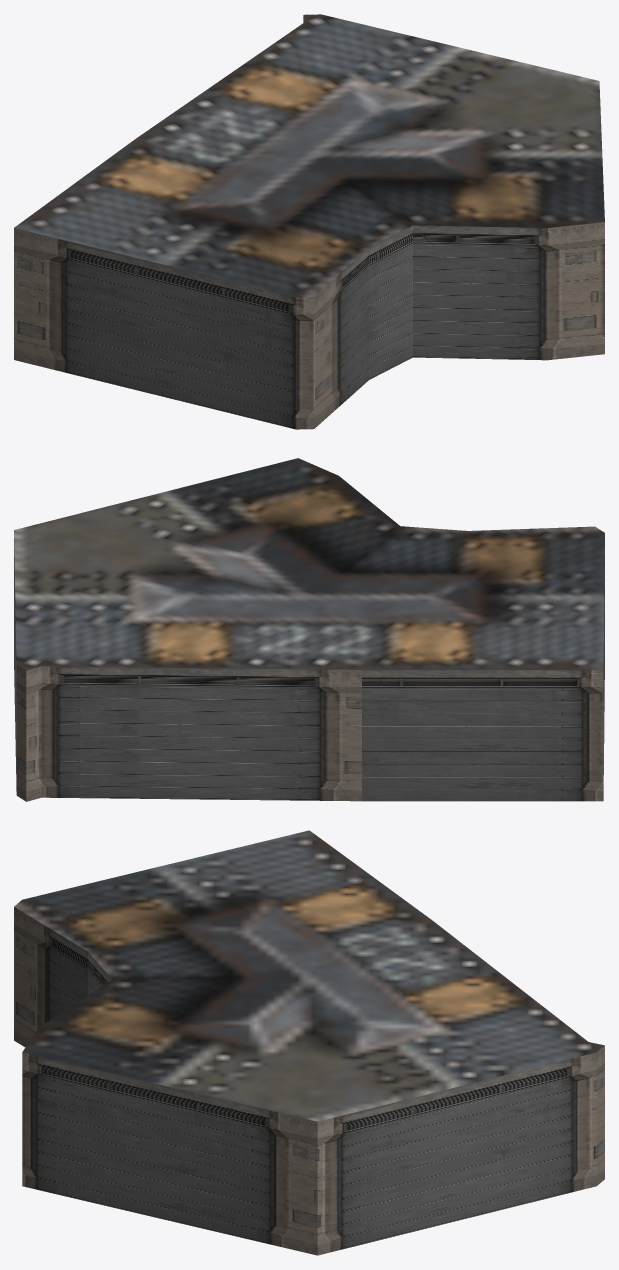
The model's file is hangar_hard_a_22.glb.
3 views of the same model, one above another, from view 1: azimuth 30°, elevation 25°; view 2: azimuth 150°, elevation 25°; view 3: azimuth 270°, elevation 25° (orthographic).
Visible parts, largest first — view 1: buildings/saxarba/hangar_hard/hangar_hard_a_22; view 2: buildings/saxarba/hangar_hard/hangar_hard_a_22; view 3: buildings/saxarba/hangar_hard/hangar_hard_a_22.
Boxes of the visible parts, box(x1,y1,x2,y2) form: buildings/saxarba/hangar_hard/hangar_hard_a_22: box(14, 14, 604, 429); buildings/saxarba/hangar_hard/hangar_hard_a_22: box(14, 458, 604, 801); buildings/saxarba/hangar_hard/hangar_hard_a_22: box(14, 830, 604, 1255).
Bounding box in the file's own units: 84 × 18 × 72.
